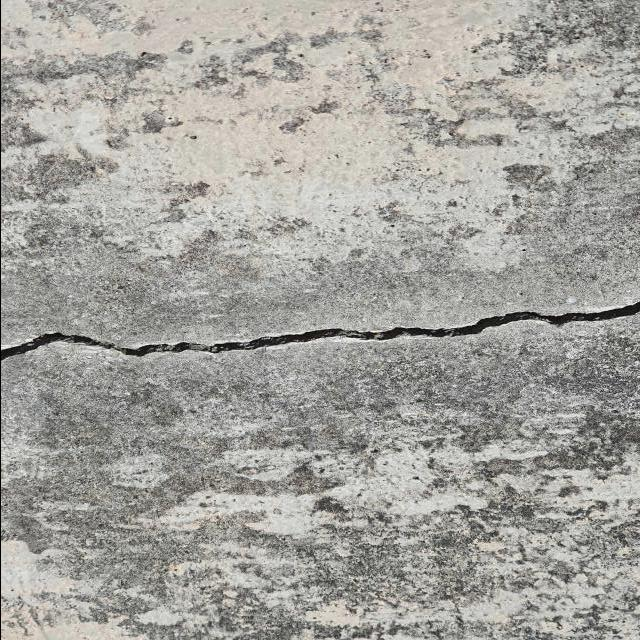SurfaceCrack: (1, 262, 640, 407)
